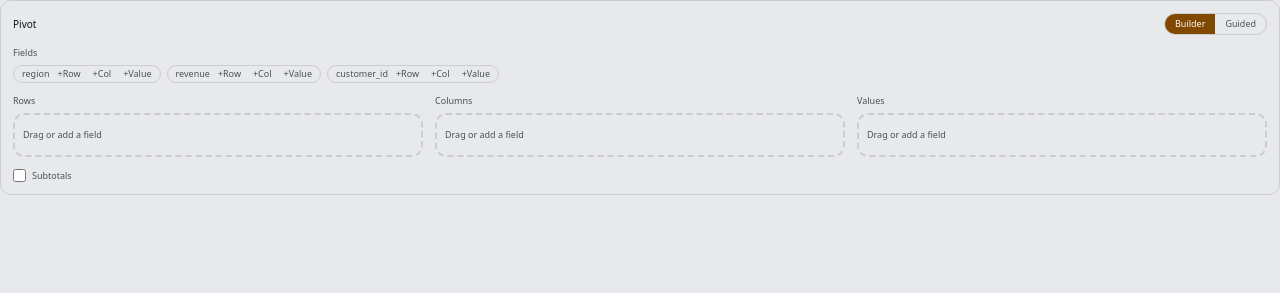
it: PivotBuilder › changing the aggregate picker updates the compiled SQL
Click the button titled "Add revenue to values" in the row of "revenue" at (298, 74), box [280,68,316,80]
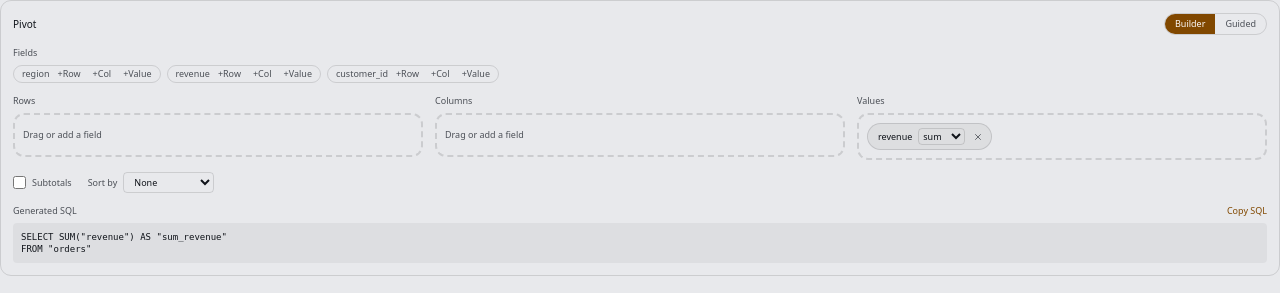
Expected: the text "SELECT SUM(\"revenue\") AS \"sum_revenue\" FROM \"orders\"" is shown, [13,223,1267,263]
Select "avg" in the dropdown named "Aggregation for revenue" at (942, 136), box [918,128,965,145]
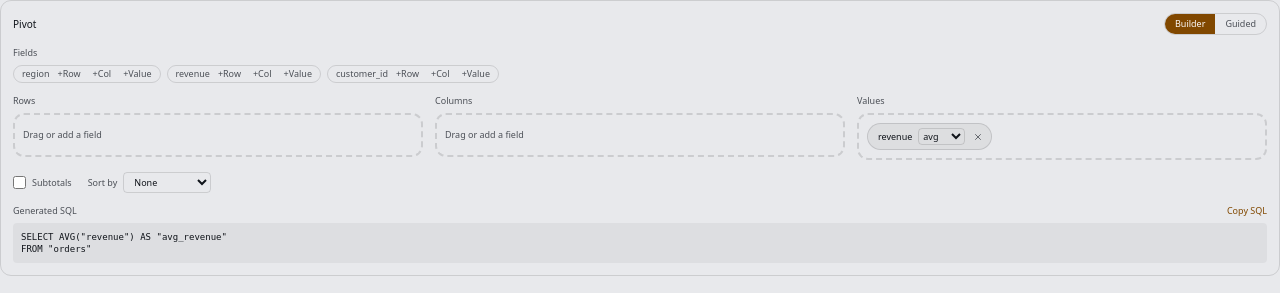
Expected: the text "SELECT AVG(\"revenue\") AS \"avg_revenue\" FROM \"orders\"" shows "AVG(\"revenue\") AS \"avg_revenue\"", [21,232,227,254]
